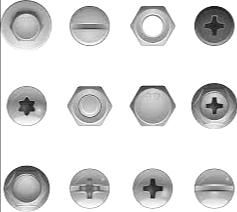hexagonal: (129, 84, 175, 126), (66, 85, 112, 127)
